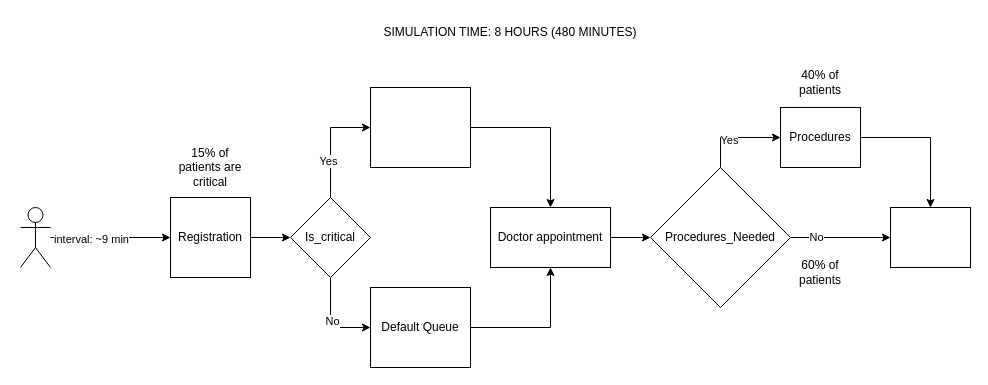
Some shapes in this 988 by 385 pixel diagram are drawn without their labels. The shapes that lost their labels are listed below. From the top down, each one's centre as x and y in pixels, then its label:
(x=420, y=127): Priority Queue
(x=35, y=237): Patient
(x=930, y=237): Discharge
